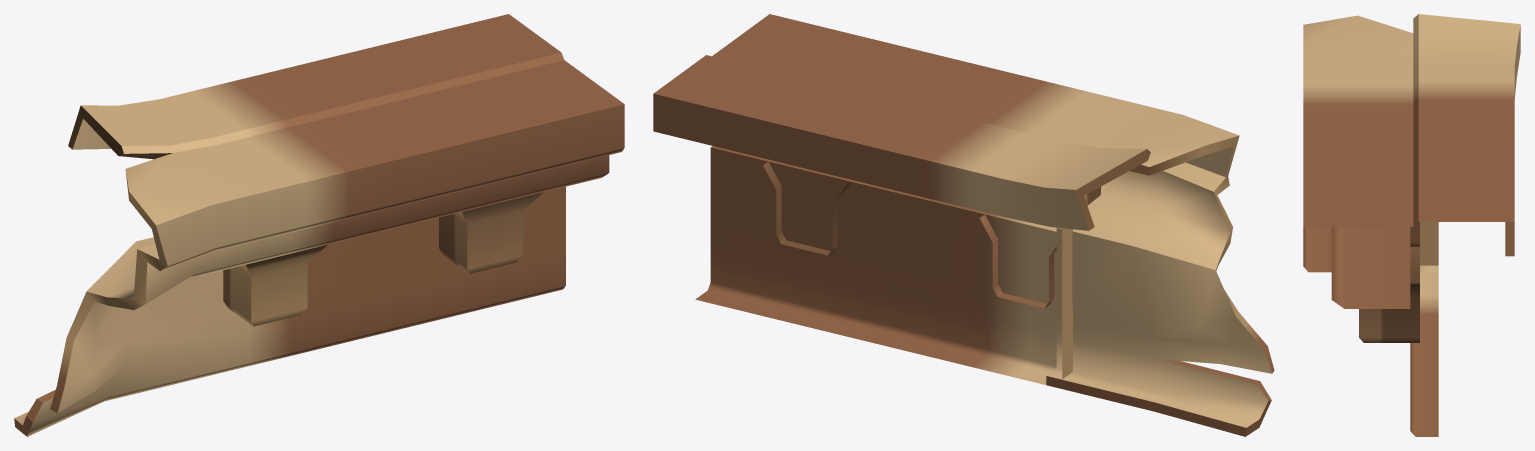
The model's file is DBK_Cornice_C_End_Mirror.fbx.
3 renders of one model, left to right at view 1: azimuth 30°, elevation 25°; view 2: azimuth 150°, elevation 25°; view 3: azimuth 270°, elevation 25°, orthographic. The views are drawn at different scales.
Parts seen in each view (by area): view 1: DBK_Cornice_C_End_Mirror; view 2: DBK_Cornice_C_End_Mirror; view 3: DBK_Cornice_C_End_Mirror.
Part boxes in pixels (x1,y1,x2,y2): DBK_Cornice_C_End_Mirror: (14,14,624,436); DBK_Cornice_C_End_Mirror: (653,14,1274,436); DBK_Cornice_C_End_Mirror: (1303,14,1520,436).
Size of the model in its own units: 154 by 69.53 by 57.97.
